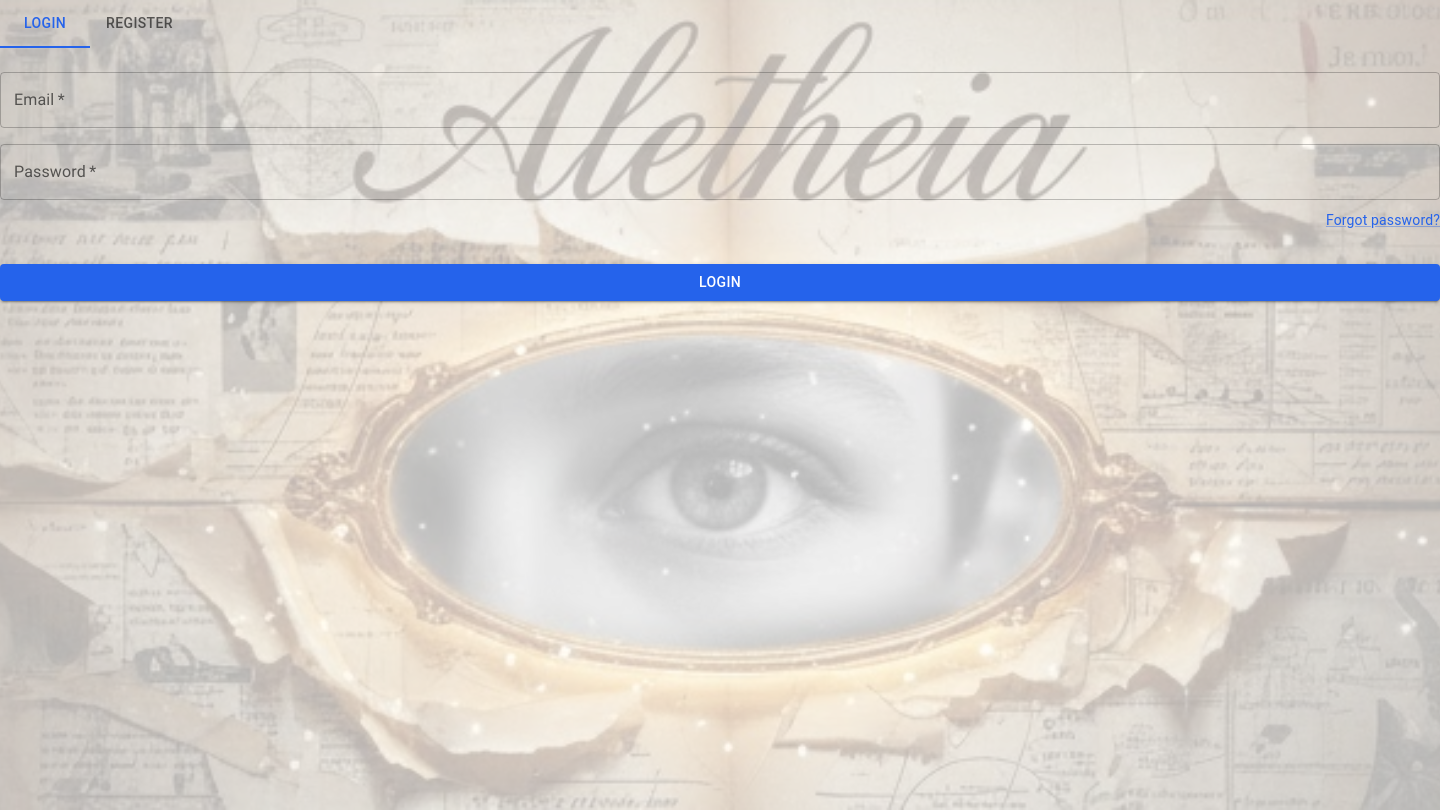
it: LoginForm with MSW › should display error message on invalid credentials
The image size is (1440, 810).
Type "invalid@example.com" into the field labelled "Email *" at point(720, 100), box [0, 72, 1439, 128]
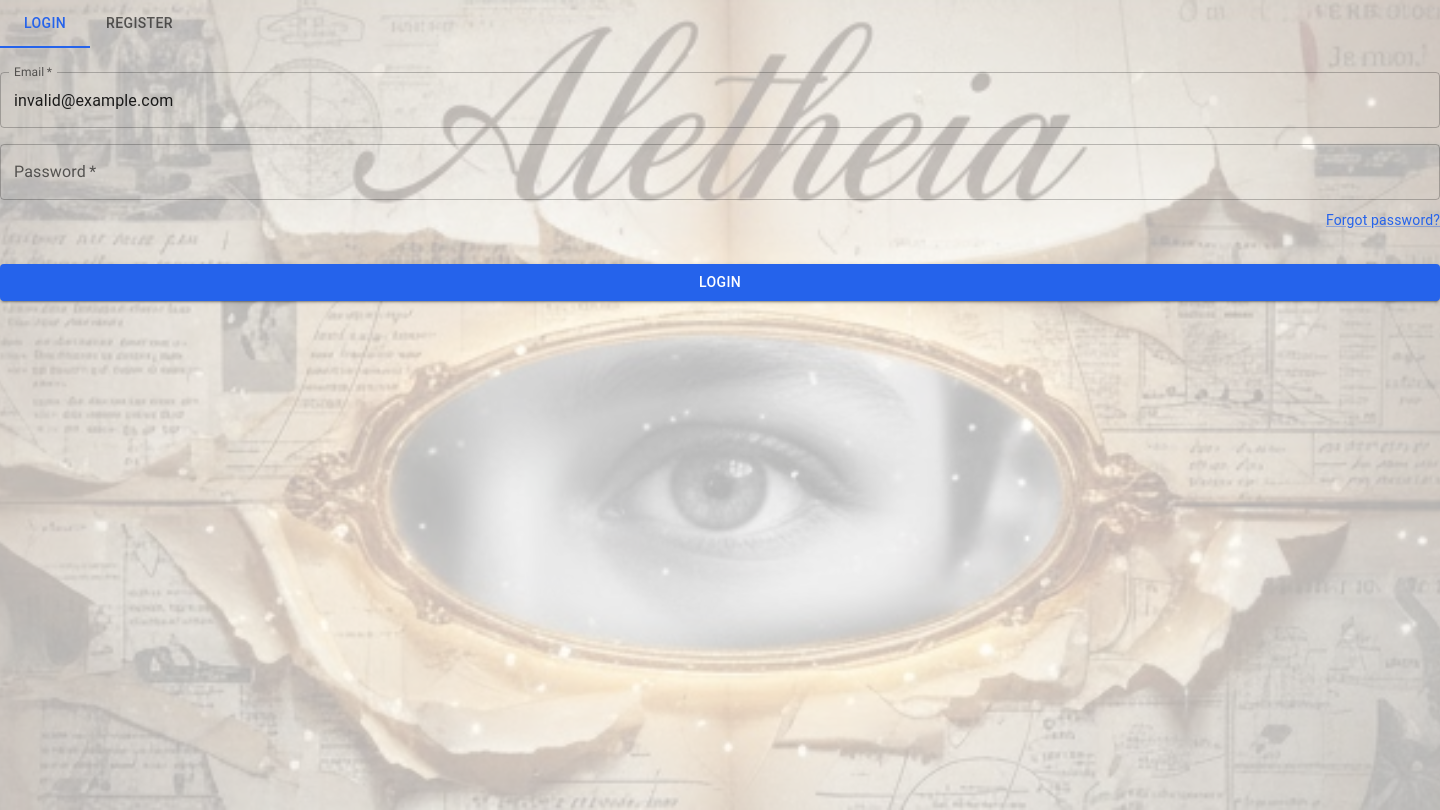
Type "wrongpassword" into the password field labelled "Password *" at point(720, 172), box [0, 144, 1439, 200]
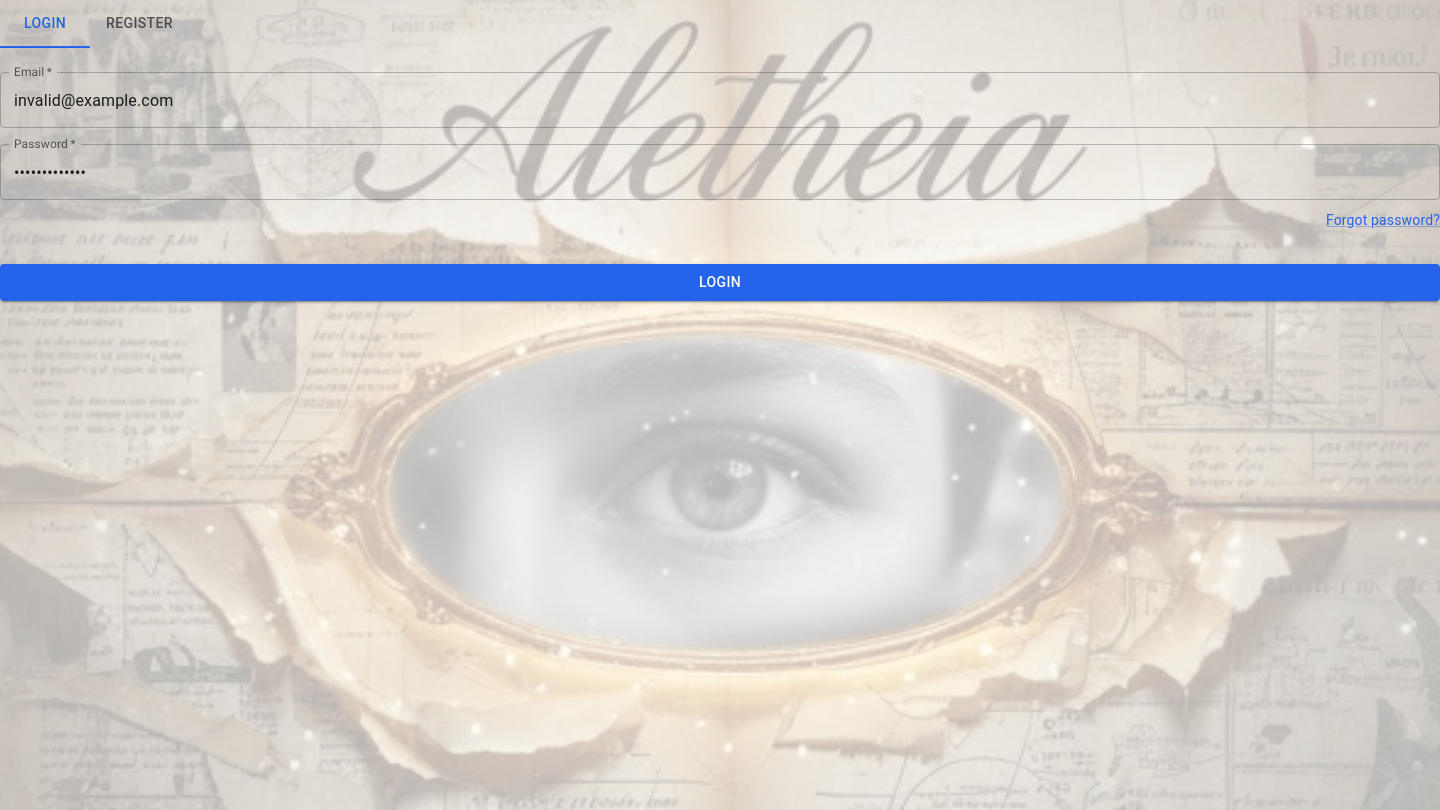
Click the button "Login" at point(720, 282), box [0, 264, 1439, 300]
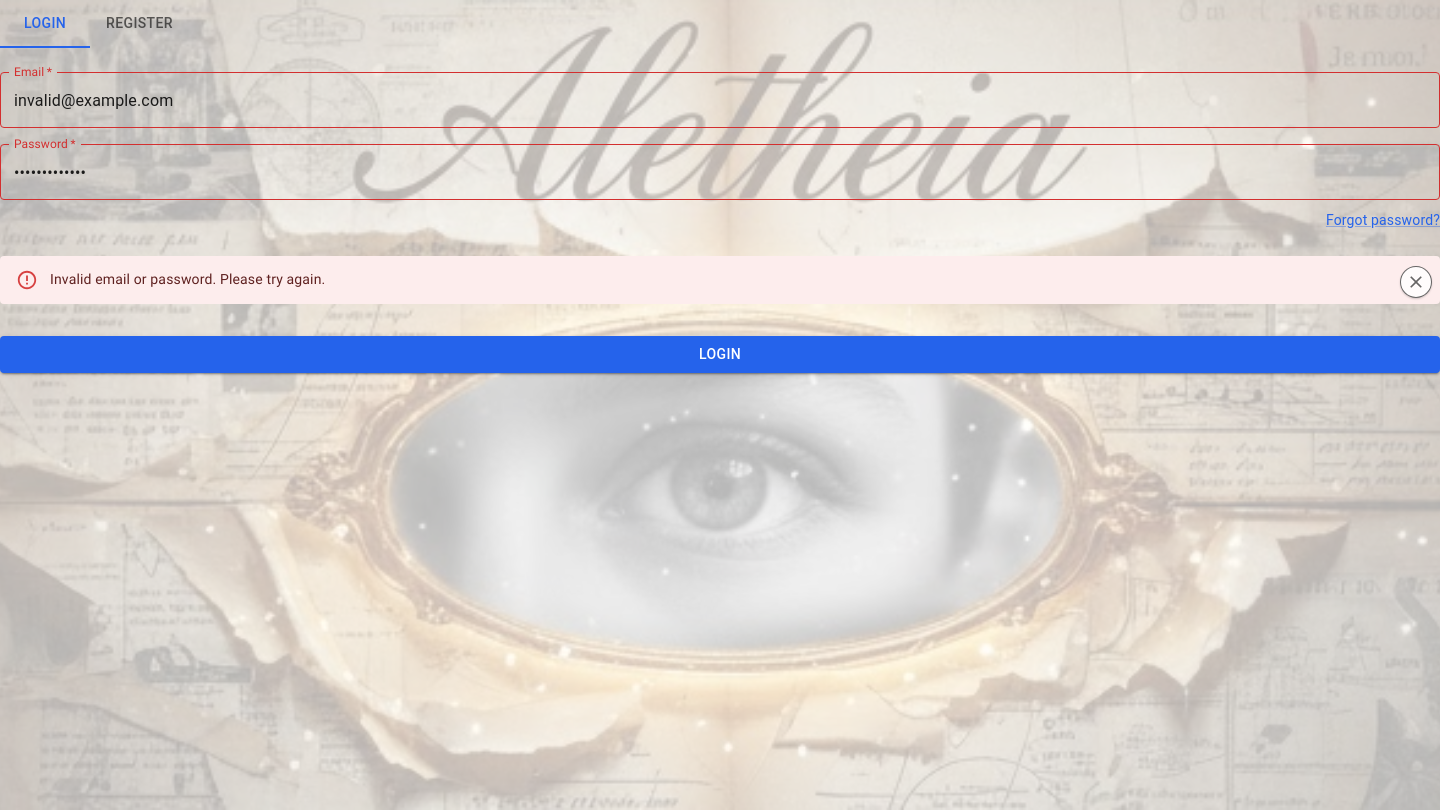
Check: the message "Invalid email or password. Please try again." is shown, box [0, 256, 1439, 304]
